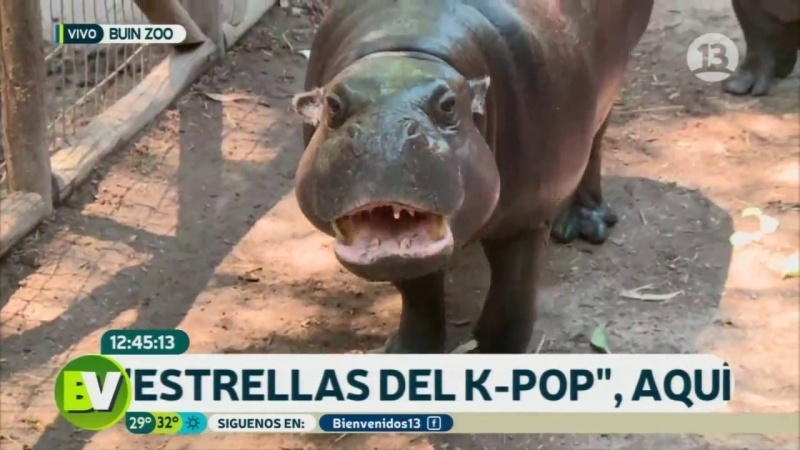hipopotamo: (292, 1, 675, 356)
